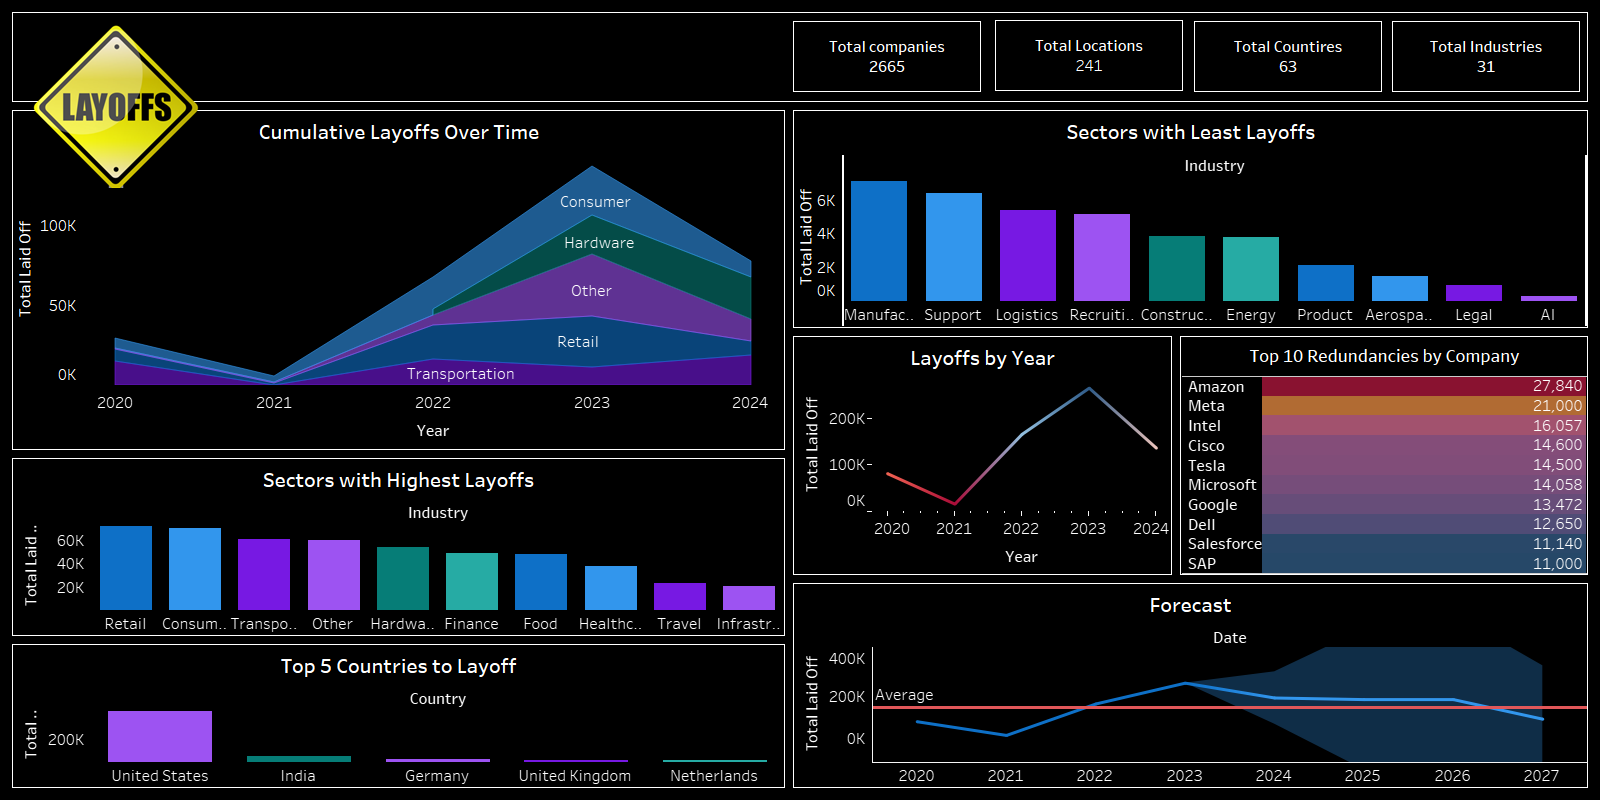

What the dashboard file says about the page in this screenshot:
{"tool":"tableau","page":{"name":"Dashboard 1","canvas":[1600,800],"ordinal":0},"visuals":[{"type":"title","box":[8,8,1584,98]},{"type":"image","param":"C:/Users/azhar/Downloads/pngtree-layoffs-yellow-warning-sign-on-white-background","box":[13,11,206,177]},{"type":"text","box":[995,20,188,71]},{"type":"text","box":[793,21,188,71]},{"type":"text","box":[1194,21,188,71]},{"type":"text","box":[1392,21,188,71]},{"type":"worksheet","title":"Cumulative Layoffs Over Time","mark":"Area","rows":["total_laid_off"],"cols":["date"],"box":[8,106,781,348]},{"type":"worksheet","title":"Layoff by Industry (least)","mark":"Automatic","rows":["total_laid_off"],"cols":["industry"],"box":[789,106,803,225.7]},{"type":"worksheet","title":"Layoff by Year","mark":"Automatic","rows":["total_laid_off"],"cols":["date"],"box":[789,331.7,387.5,247.3]},{"type":"worksheet","title":"Layoff by Company","mark":"Square","rows":["company"],"box":[1176.5,331.7,415.5,247.3]},{"type":"worksheet","title":"Layoff by Industry","mark":"Automatic","rows":["total_laid_off"],"cols":["industry"],"box":[8,454,781,185.9]},{"type":"worksheet","title":"Forecast for 3 Years","mark":"Automatic","rows":["total_laid_off"],"cols":["date"],"box":[789,579,803,213]},{"type":"worksheet","title":"Layoff by Country","mark":"Automatic","rows":["total_laid_off"],"cols":["country"],"box":[8,639.9,781,152.1]}]}

Visuals, with their boxes in screenshot pixels (x1, y1, x2, y2), scaled from the page's 1600x800 canvas onto the 1600x800 screenshot:
title: 8, 8, 1592, 106
image: 13, 11, 219, 188
text: 995, 20, 1183, 91
text: 793, 21, 981, 92
text: 1194, 21, 1382, 92
text: 1392, 21, 1580, 92
"Cumulative Layoffs Over Time" worksheet (Area marks): 8, 106, 789, 454
"Layoff by Industry (least)" worksheet: 789, 106, 1592, 332
"Layoff by Year" worksheet: 789, 332, 1176, 579
"Layoff by Company" worksheet (Square marks): 1176, 332, 1592, 579
"Layoff by Industry" worksheet: 8, 454, 789, 640
"Forecast for 3 Years" worksheet: 789, 579, 1592, 792
"Layoff by Country" worksheet: 8, 640, 789, 792
